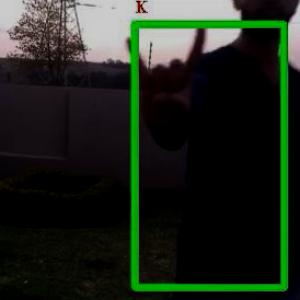takeoff-hand: (118, 21, 212, 134)
